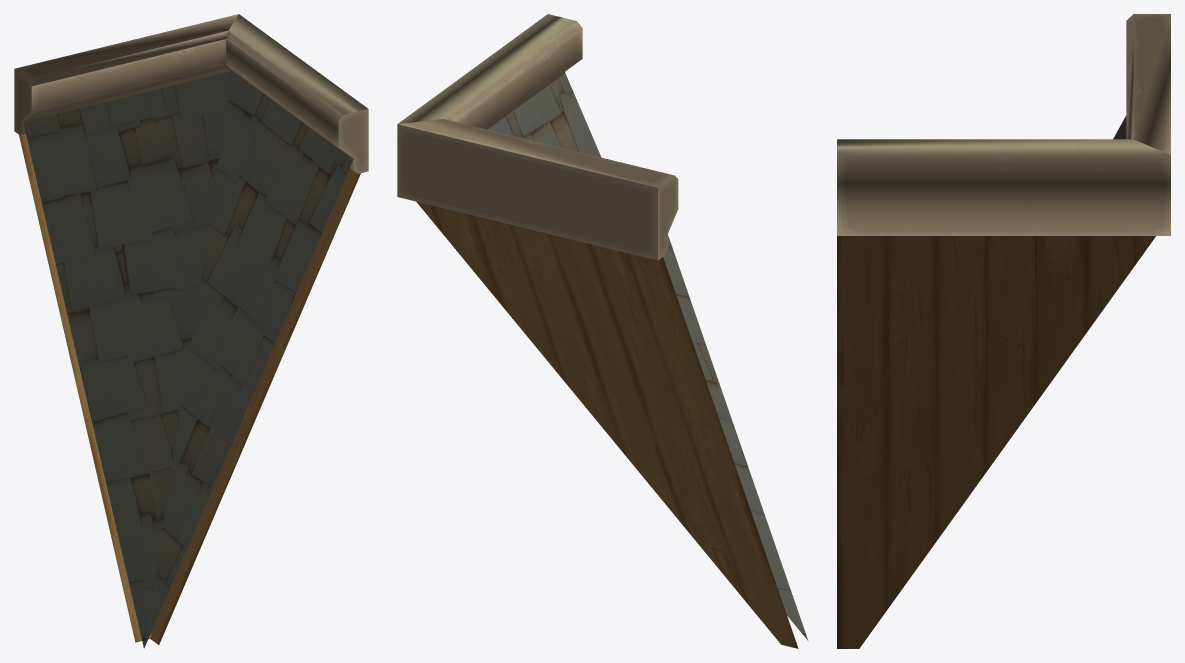
File: ARC0510002.fbx
The picture shows the model from 3 angles, left to right: view 1: azimuth 30°, elevation 25°; view 2: azimuth 150°, elevation 25°; view 3: azimuth 270°, elevation 25°; orthographic projection. The views are drawn at different scales.
Parts seen in each view (by area): view 1: smARC0510002; view 2: smARC0510002; view 3: smARC0510002.
Part boxes in pixels (x1=…): smARC0510002: x1=14, y1=14, x2=368, y2=648; smARC0510002: x1=397, y1=14, x2=808, y2=648; smARC0510002: x1=837, y1=14, x2=1170, y2=648.
Size of the model in its own units: 150 by 310 by 150.
Materials: 1 (1 with a texture image).
